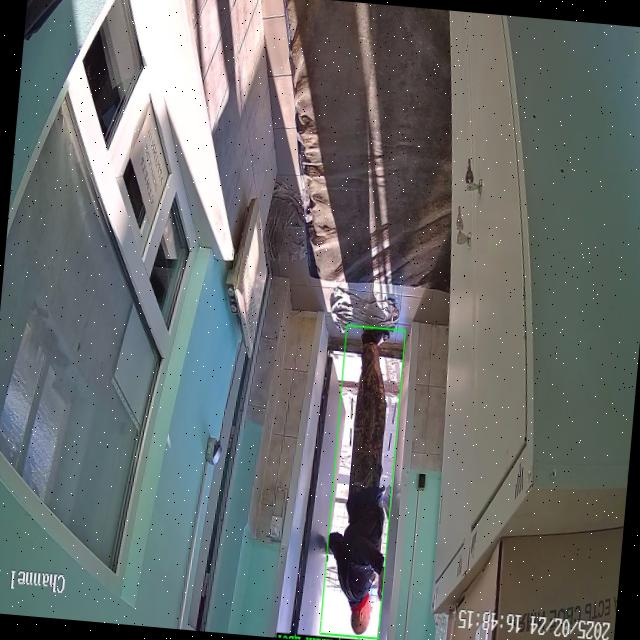Person: (327, 330, 390, 634)
